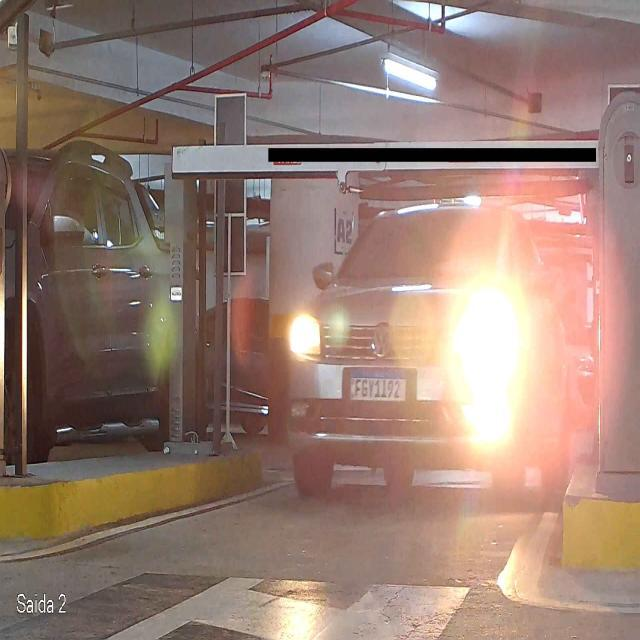mercosul_plate: (348, 368, 409, 403)
